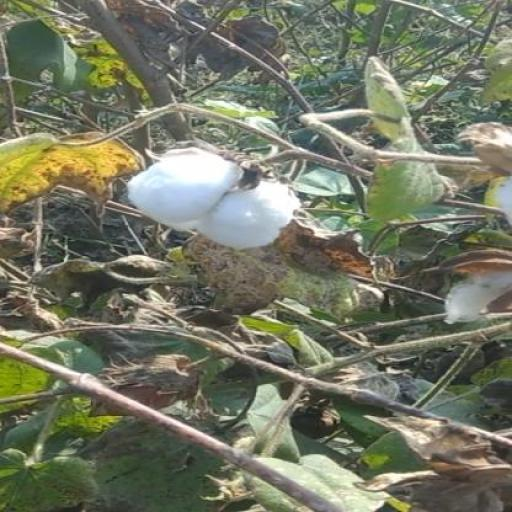cotton_ready: (111, 134, 307, 255)
